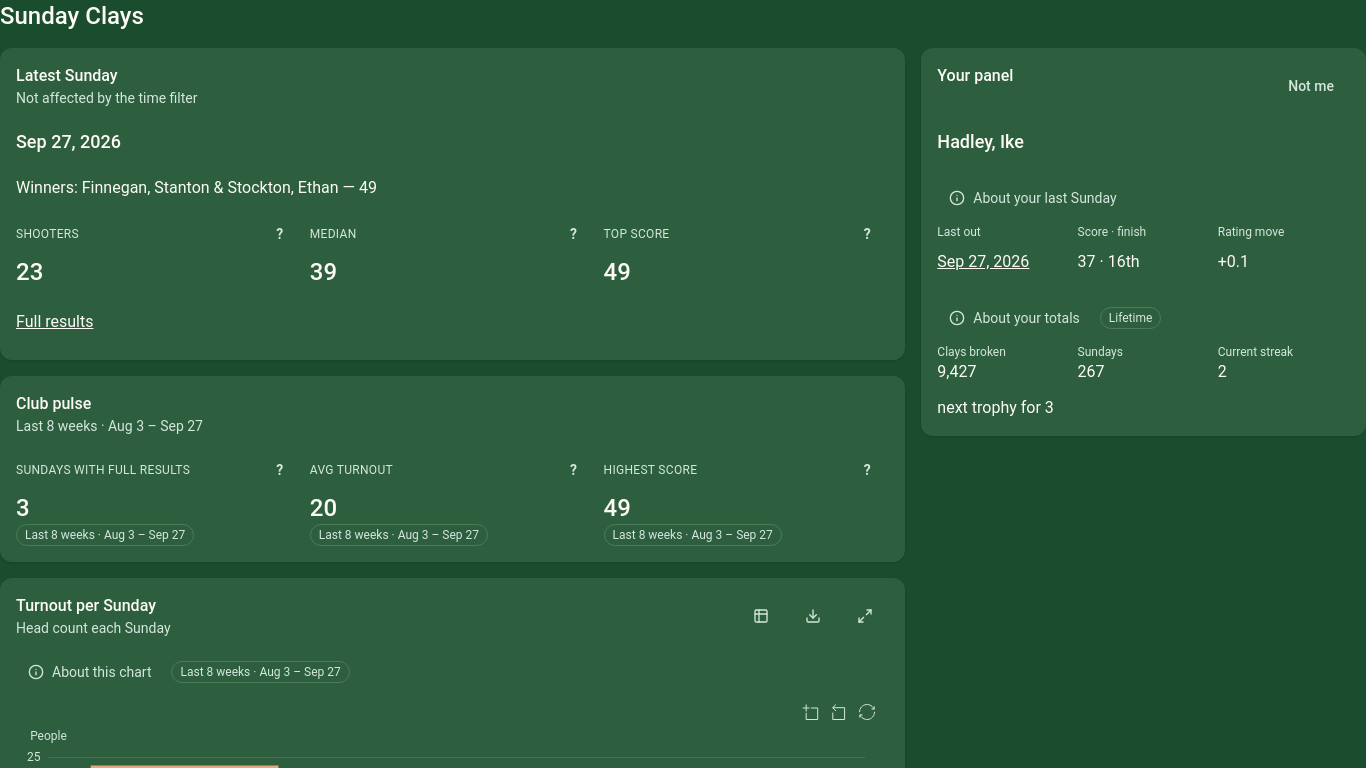
HomePage › "Not me" forgets the choice and asks again, with focus on the question
The width and height of the screenshot is (1366, 768).
Click the button "Not me" at x=1311, y=86, box [1272,64,1350,108]
(page scrolled)
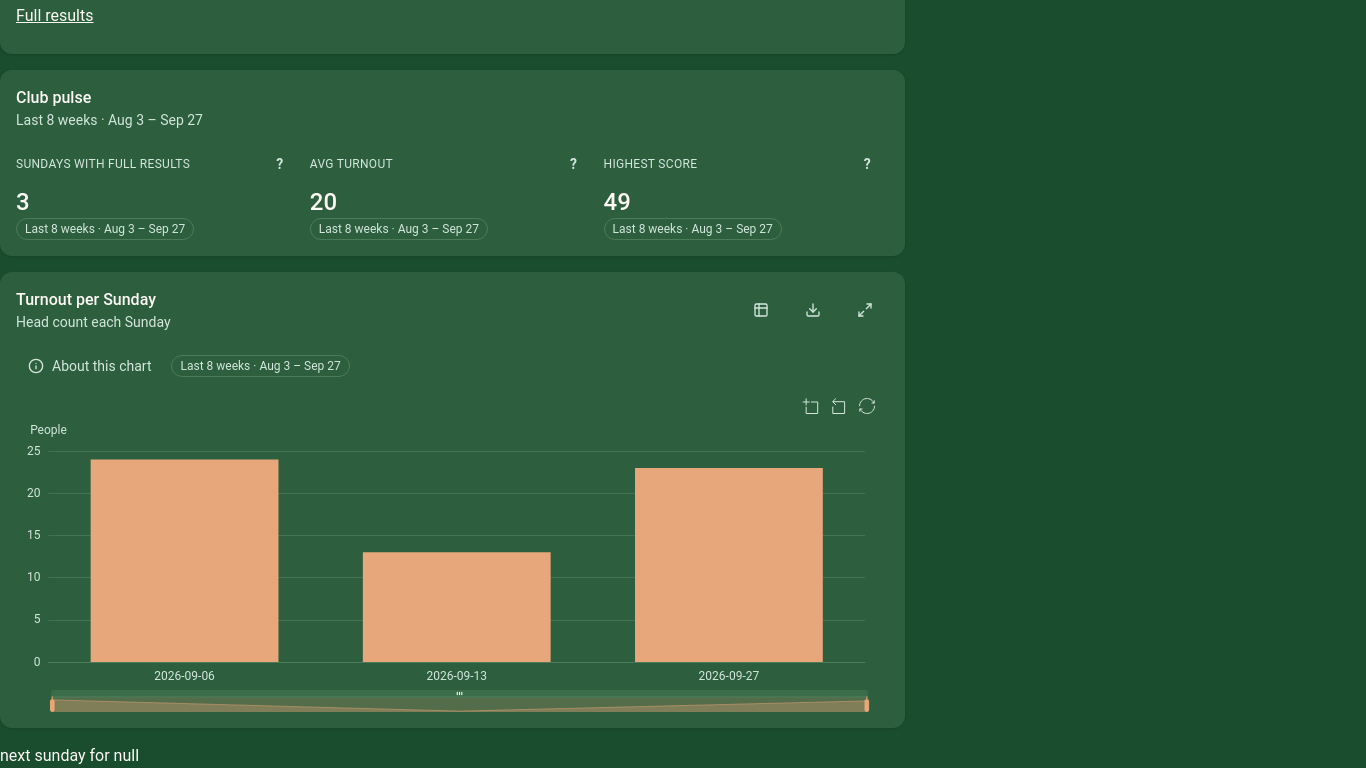
expect the text "next sunday for null" is shown: met, box [0,746,139,765]
